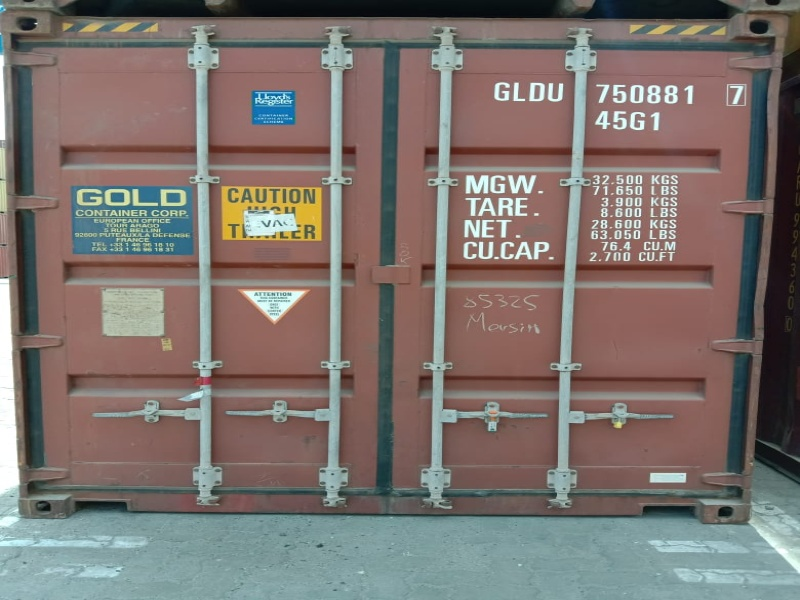iso: (595, 111, 664, 132)
mgw: (458, 168, 682, 200)
serial: (488, 78, 751, 109)
